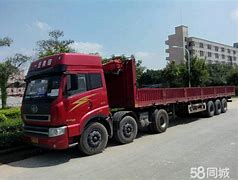bigtruck: (23, 53, 237, 153)
